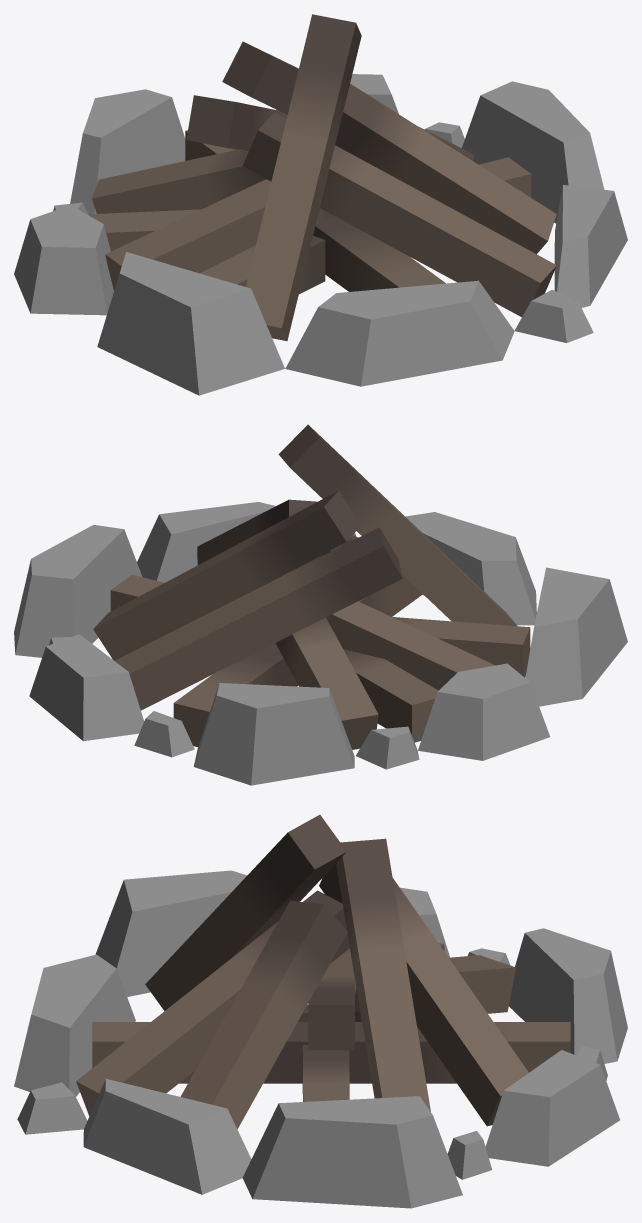
Rendered from Bonfire_01.fbx.
3 views of the same model, one above another, from view 1: azimuth 30°, elevation 25°; view 2: azimuth 150°, elevation 25°; view 3: azimuth 270°, elevation 25° (orthographic). The views are drawn at different scales.
Visible parts, largest first — view 1: Bonfire_01; view 2: Bonfire_01; view 3: Bonfire_01.
Boxes of the visible parts, left/top/right/bottom form: Bonfire_01: left=14, top=14, right=627, bottom=395; Bonfire_01: left=14, top=424, right=627, bottom=785; Bonfire_01: left=14, top=814, right=627, bottom=1208.
Size of the model in its own units: 97.82 by 42.46 by 92.43.
1 material, 1 textured.
